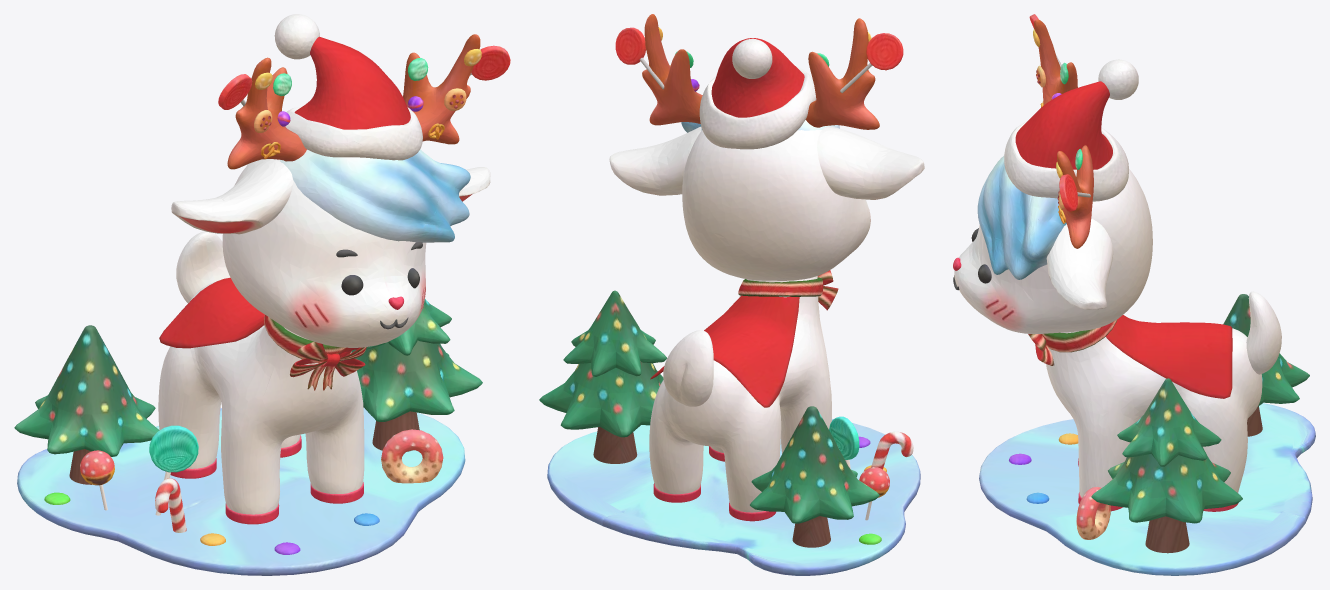
The picture shows the model from 3 angles, left to right: view 1: azimuth 30°, elevation 25°; view 2: azimuth 150°, elevation 25°; view 3: azimuth 270°, elevation 25°; orthographic projection. The views are drawn at different scales.
Parts seen in each view (by area): view 1: Head_Deer_0; view 2: Head_Deer_0; view 3: Head_Deer_0.
Boxes of the visible parts, left/top/right/bottom form: Head_Deer_0: left=14, top=14, right=510, bottom=575; Head_Deer_0: left=539, top=14, right=924, bottom=575; Head_Deer_0: left=953, top=14, right=1315, bottom=575.
Size of the model in its own units: 1.13 by 1.33 by 0.9821.
Materials: 1 (1 with a texture image).
